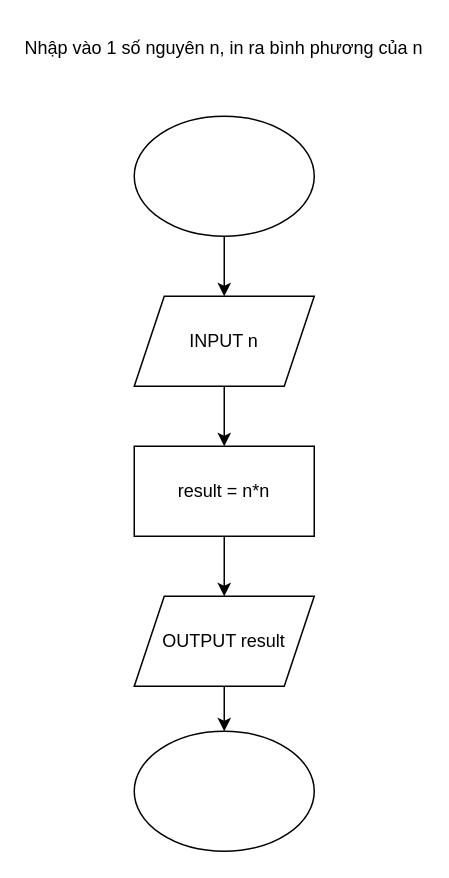
Image size: 449x878. Some labels were removed from this diagram. The centre of each missing label's shape, as x and y in pixels:
"END" goes at pixel 223 790.
"START" goes at pixel 223 175.
